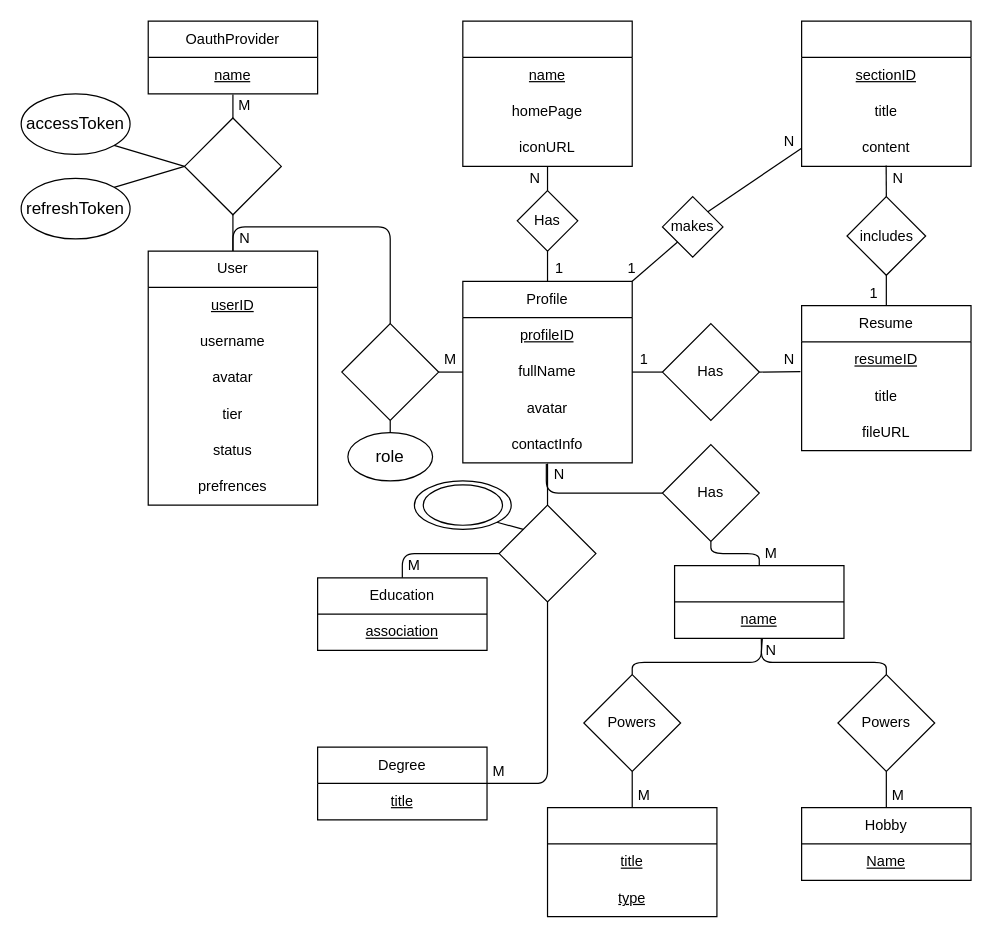
The diagram is 992 pixels wide and 938 high, and some of its shapes have lost their labels. Here are the shapes that lost their labels. From the top down, the box of each, then its label:
(462, 20, 632, 166): Links
(800, 20, 971, 166): Additional Section
(183, 117, 281, 215): Uses
(341, 322, 439, 420): Accesses
(422, 484, 503, 525): Lines
(498, 504, 596, 602): Credits
(673, 564, 844, 638): Skill
(546, 806, 717, 917): Experience
